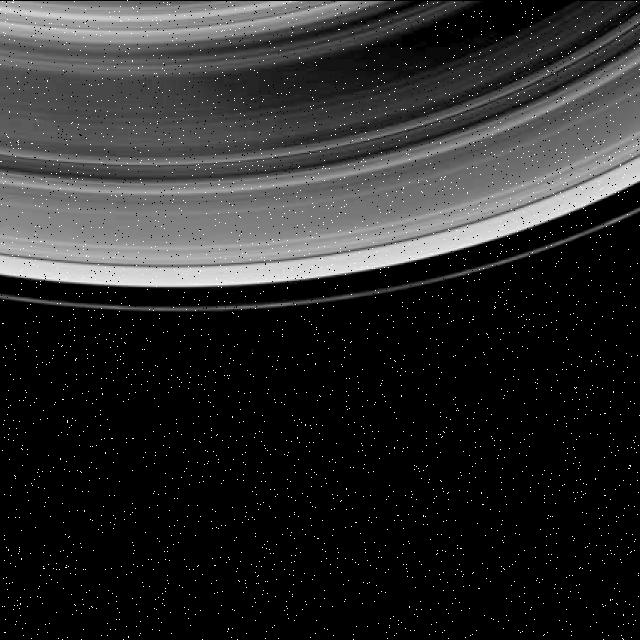Saturn: (0, 0, 640, 311)
